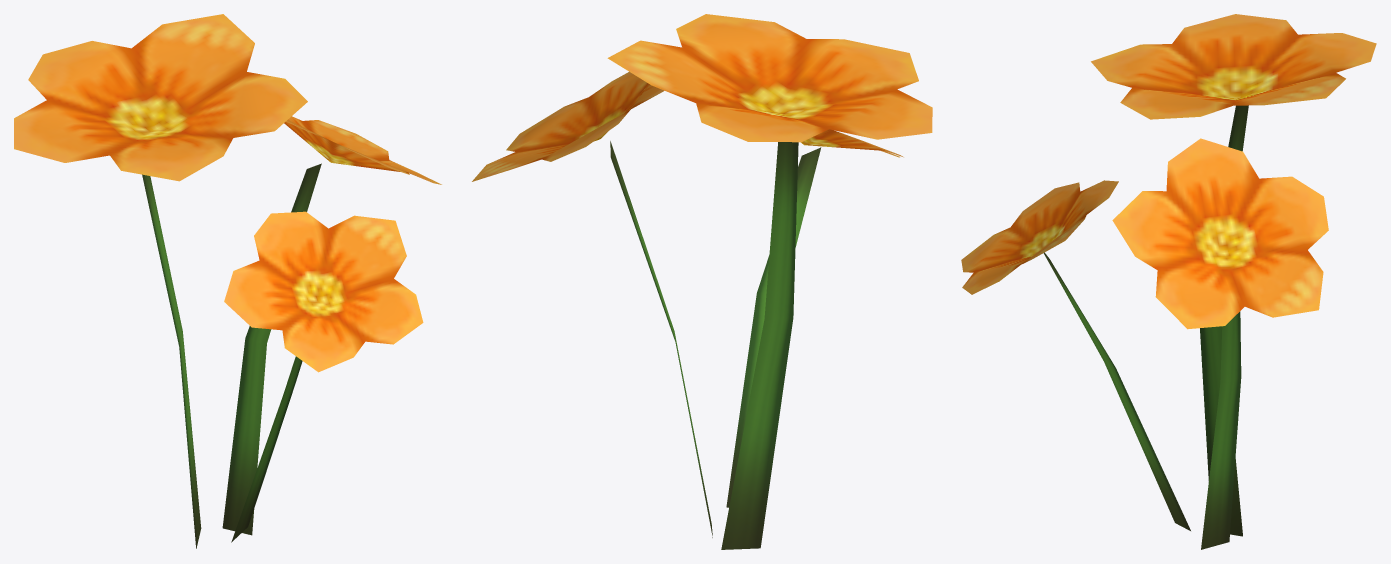
The model's file is Garden_flower_orange.fbx.
3 views of the same model, side by side, from view 1: azimuth 30°, elevation 25°; view 2: azimuth 150°, elevation 25°; view 3: azimuth 270°, elevation 25° (orthographic). The views are drawn at different scales.
Visible parts, largest first — view 1: Garden_flower_orange; view 2: Garden_flower_orange; view 3: Garden_flower_orange.
Part boxes in pixels (<box>): Garden_flower_orange: <box>14,14,441,548</box>; Garden_flower_orange: <box>472,14,932,549</box>; Garden_flower_orange: <box>961,14,1376,549</box>.
Size of the model in its own units: 31.6 by 35.32 by 28.04.
Materials: 1 (1 with a texture image).
